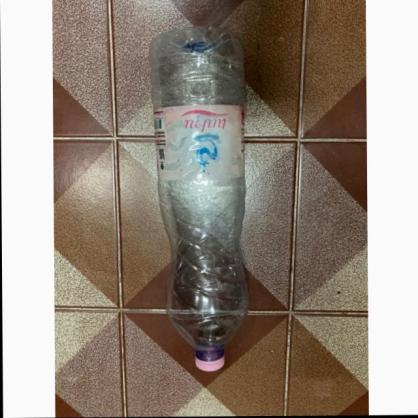bottle: (147, 26, 252, 373)
cap: (193, 352, 224, 372)
label: (151, 104, 245, 180)
